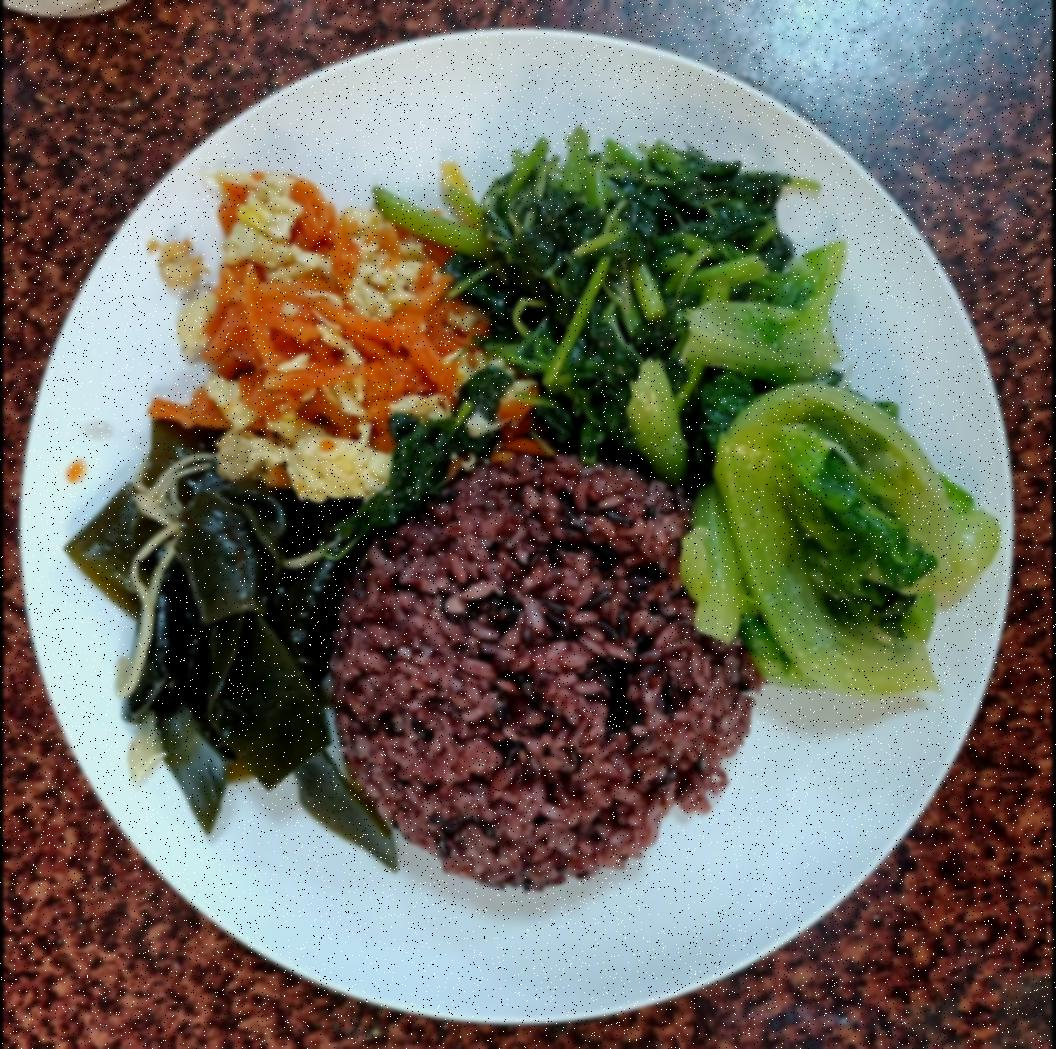plate: (29, 22, 1025, 1040)
purple rice: (310, 452, 744, 900)
side dish: (633, 298, 959, 707), (446, 132, 780, 456), (78, 404, 332, 816), (174, 180, 469, 490)
